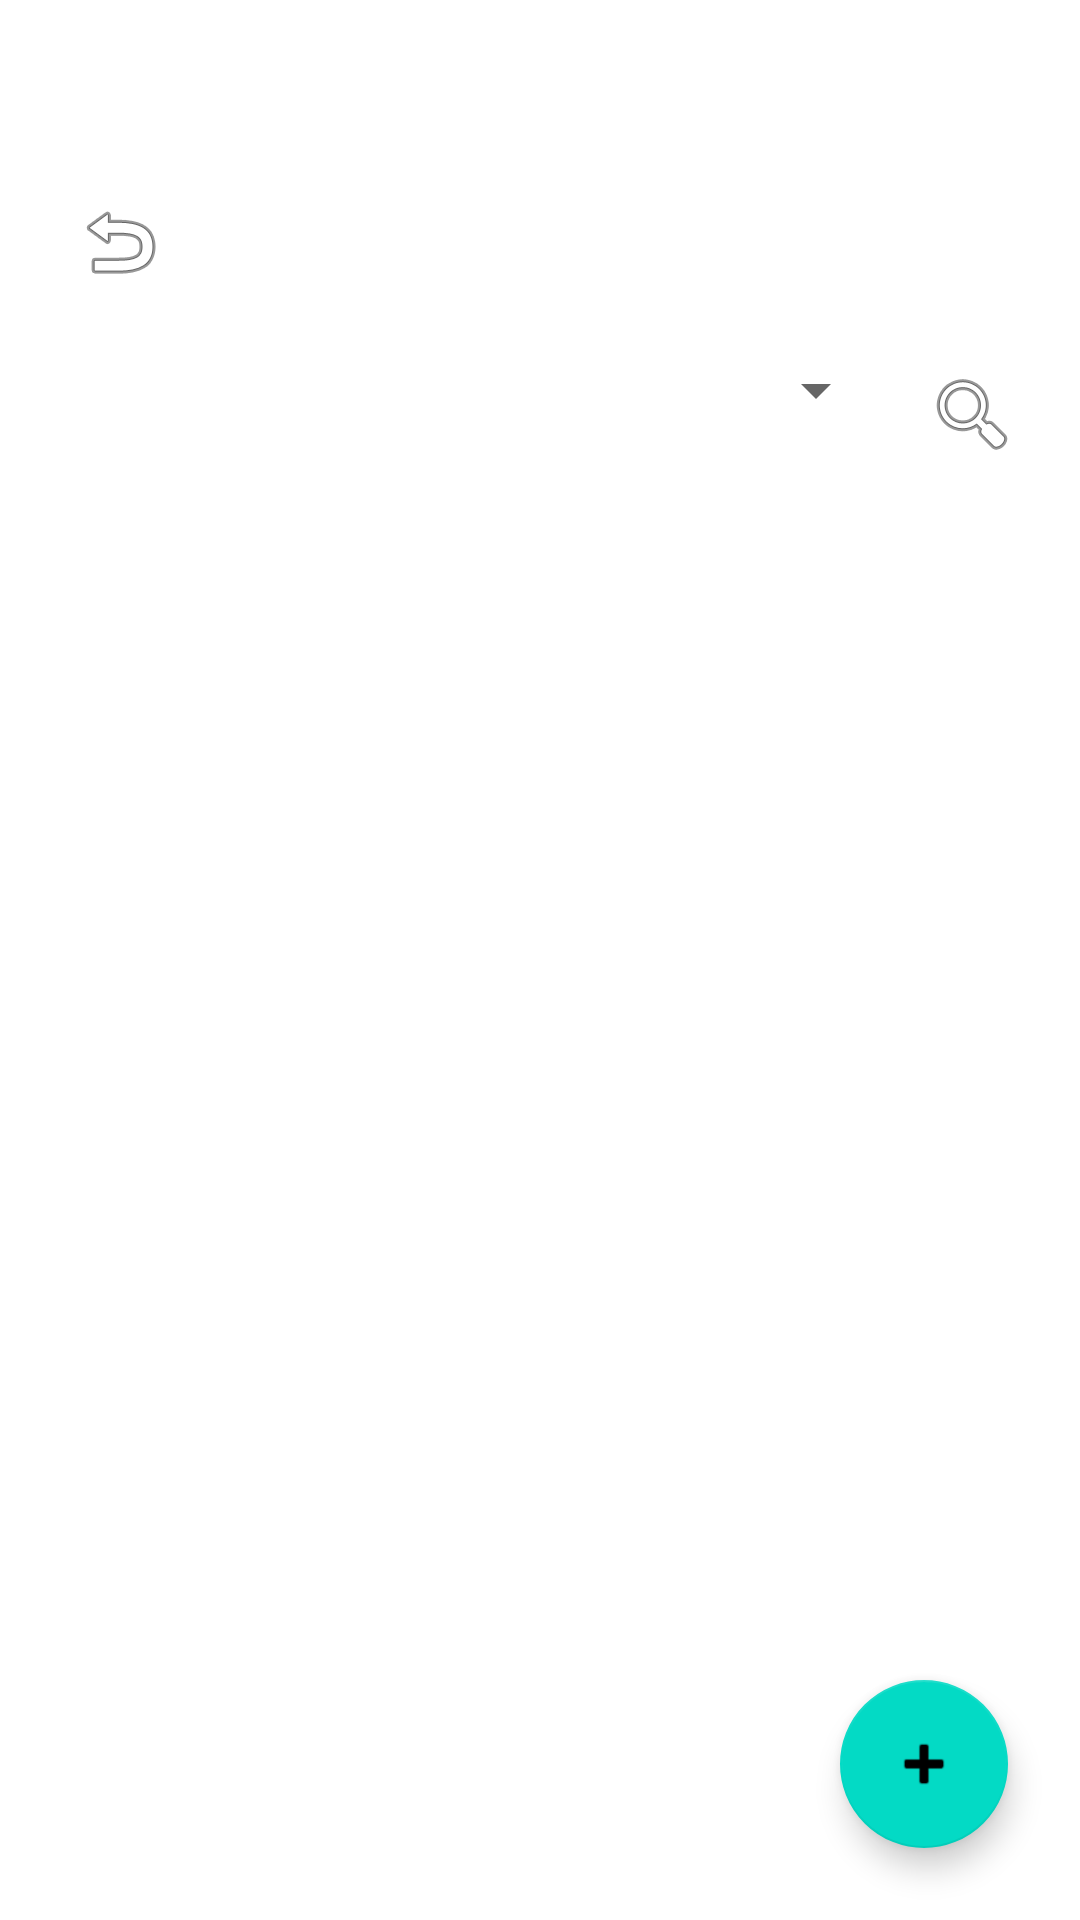

Screen size 1080x1920. Icon name, then its center in pixels as point (x, y):
Add Teacher: point (924, 1764)
Back to Home: point (121, 242)
Search: point (972, 414)
